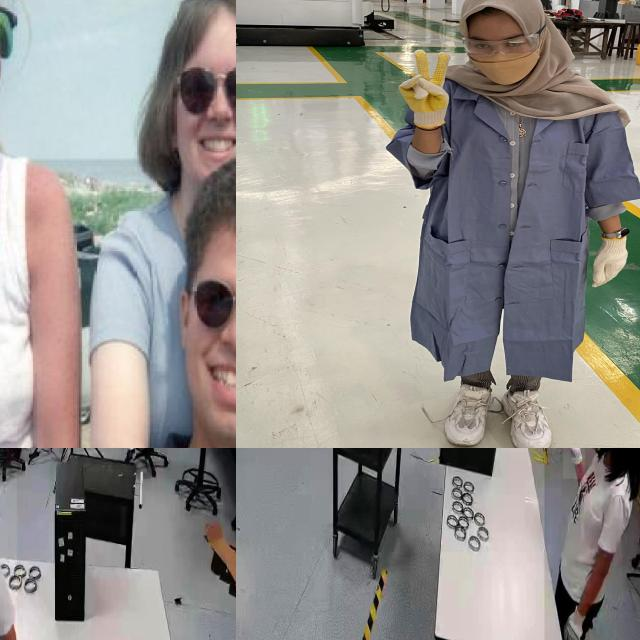face_mask: (465, 31, 538, 90)
face_nomask: (189, 280, 236, 407), (175, 67, 236, 160)
glasses: (459, 20, 549, 60), (173, 63, 236, 120), (192, 275, 236, 344), (0, 0, 18, 58)
hand_glove: (392, 50, 461, 121), (586, 236, 635, 286), (563, 603, 590, 640), (563, 448, 585, 478)
head_nohelmet: (180, 180, 236, 264), (160, 0, 236, 53), (459, 0, 544, 26)
person: (380, 0, 640, 448), (81, 0, 236, 448), (76, 175, 236, 448), (0, 0, 73, 448), (544, 448, 640, 640)
shoes: (436, 375, 500, 448), (492, 380, 554, 448)
